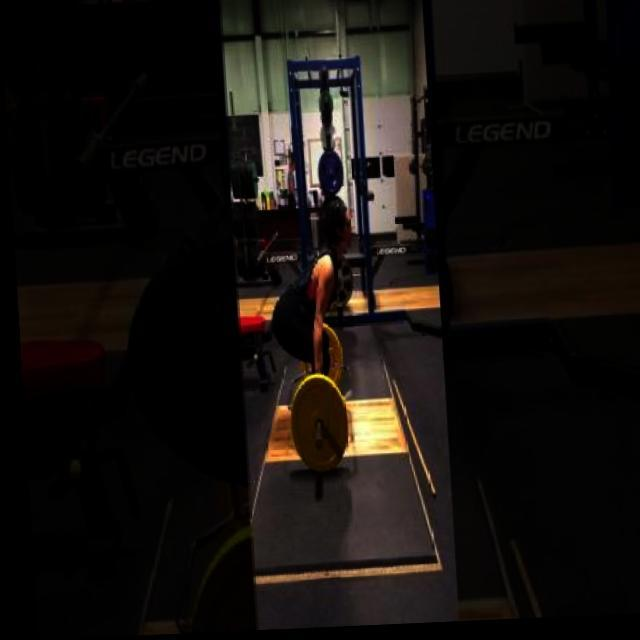barbell: (279, 375, 350, 485)
